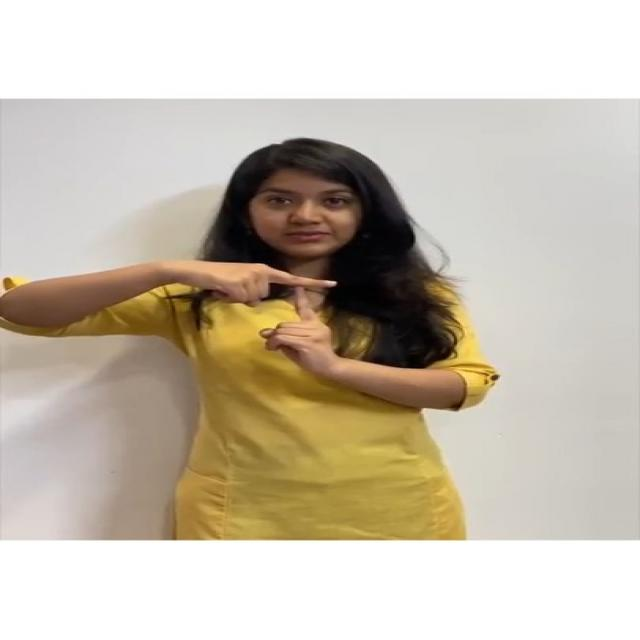T: (149, 248, 370, 386)
